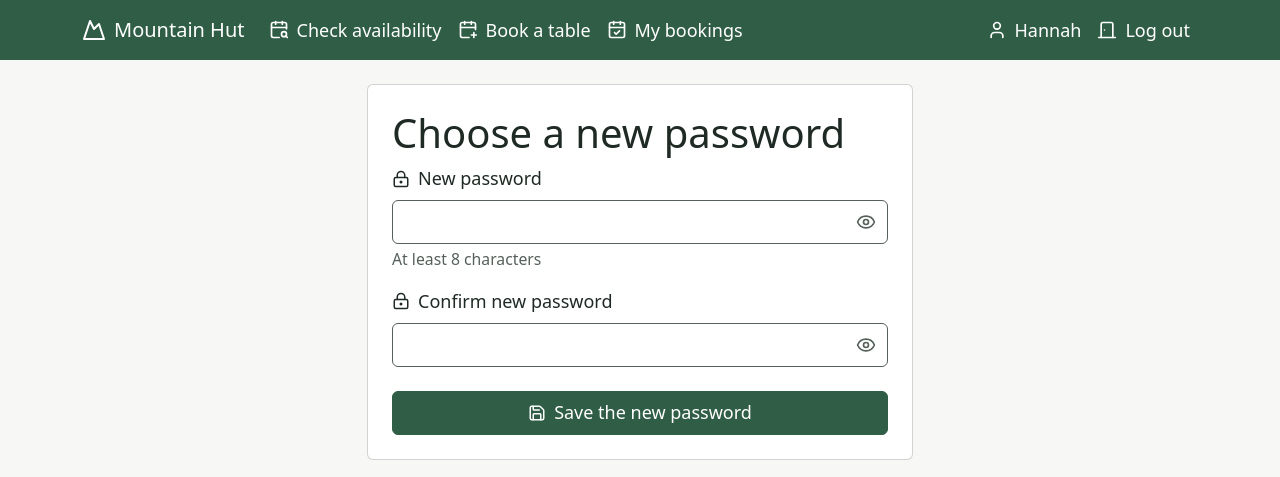
ResetPasswordPage › success › the link's user, logged in in this browser, is shown logged out (the server ended the session)
Expected: the text "Hannah" is shown, [986,18,1081,42]
Type "my-own-secret-pw" into the password field labelled "New password" at (640, 222), box [392,200,888,244]
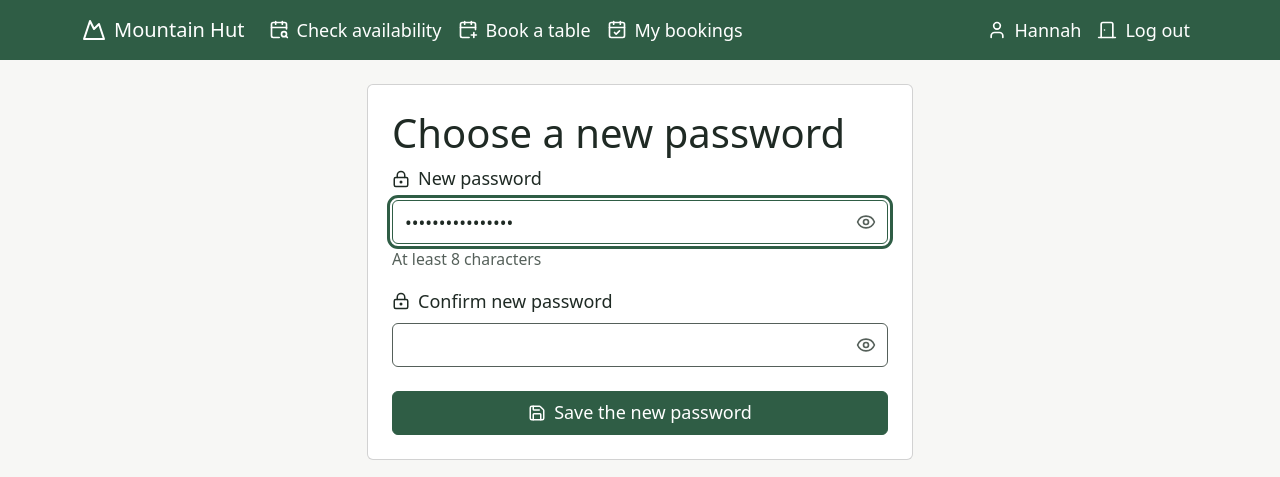
Type "my-own-secret-pw" into the password field labelled "Confirm new password" at (640, 345), box [392,323,888,367]
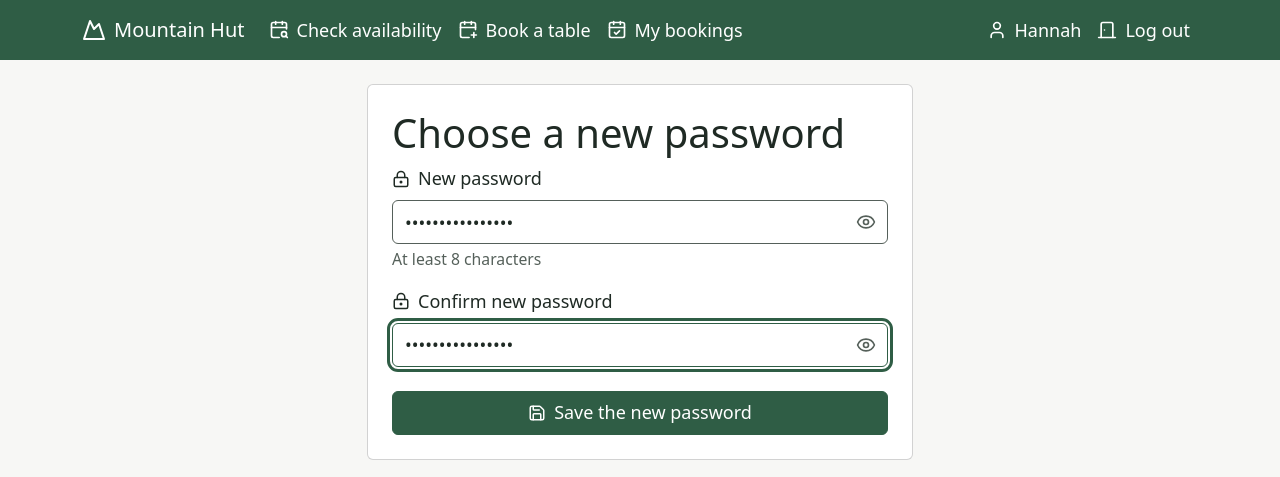
Click the button "Save the new password" at (640, 413), box [392,391,888,435]
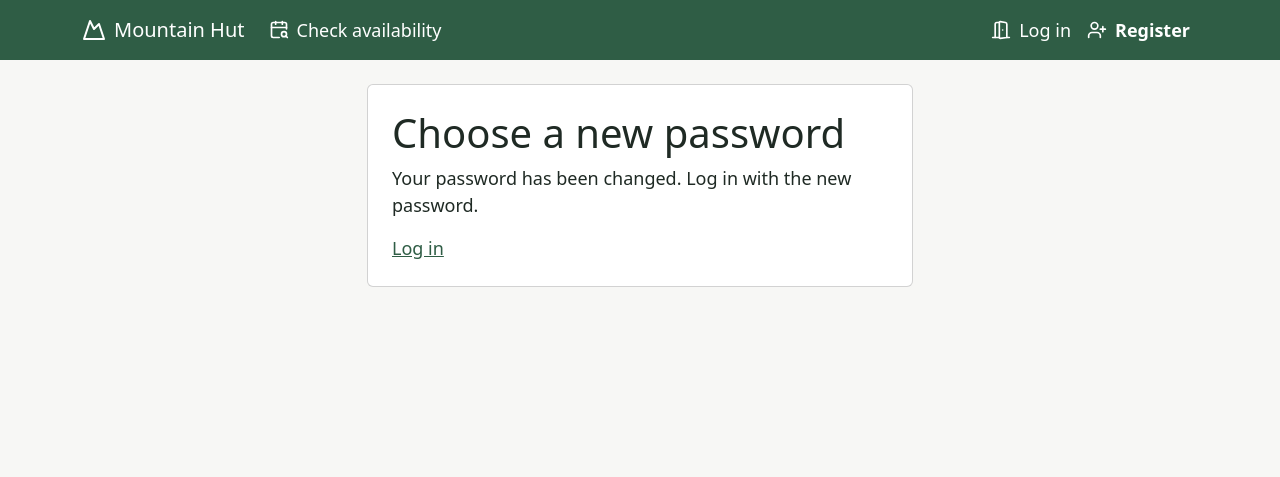
Result: the link "Log in" next to "Register" is shown at [991,18,1071,42]
Result: the text "Hannah" is gone
Result: the message shows "password has been changed" at [392,166,851,217]
